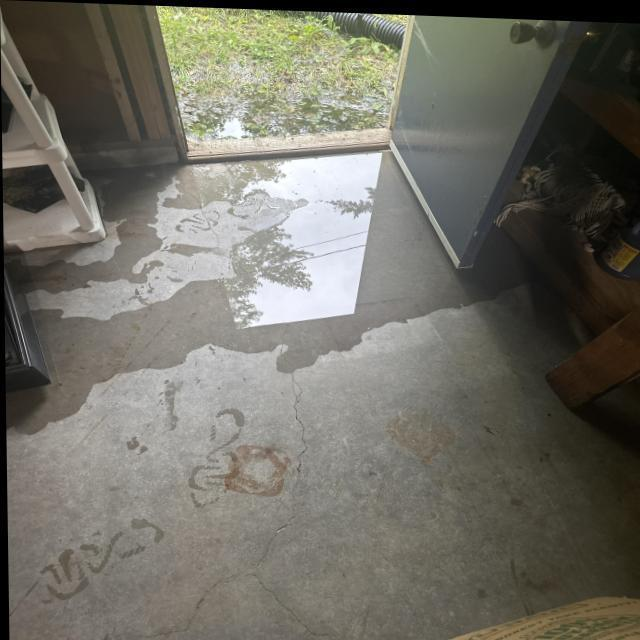water accumulation: (0, 144, 530, 438)
